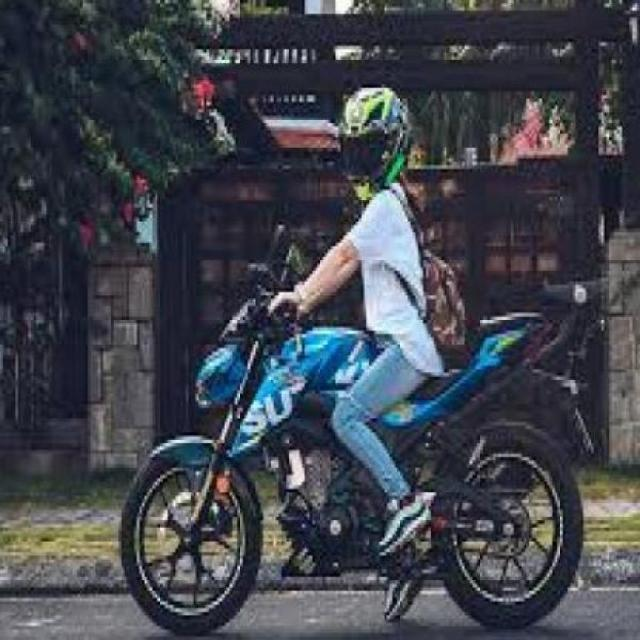Helmet: (337, 82, 414, 194)
